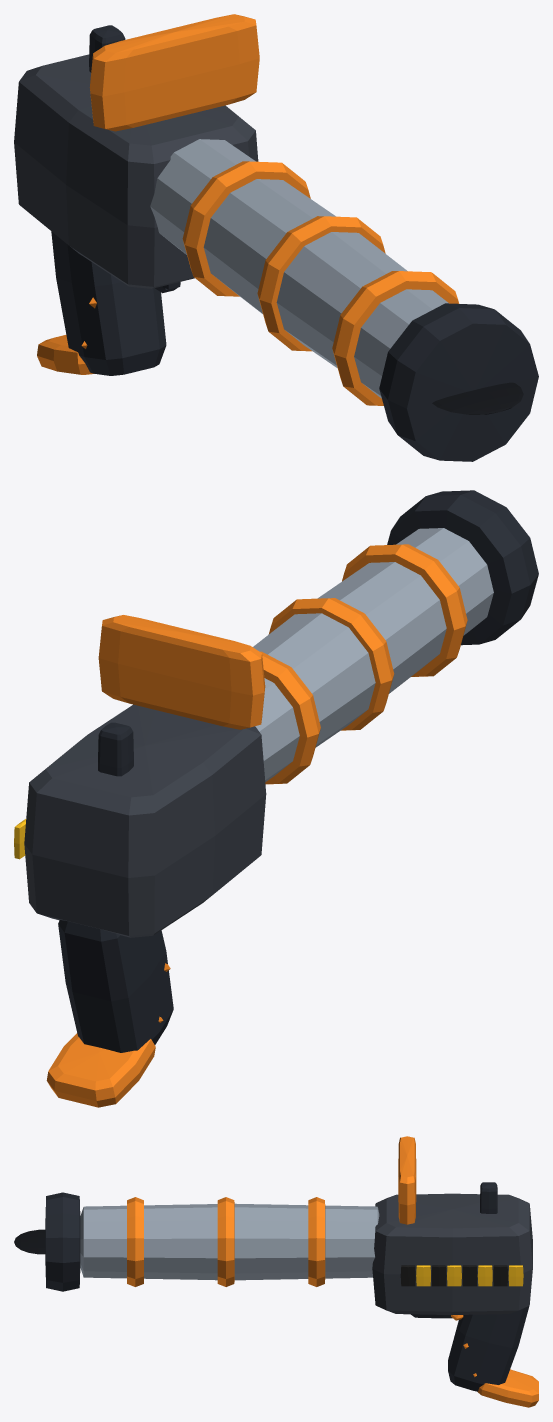
The model's file is g-heavy-3.glb.
3 views of the same model, one above another, from view 1: azimuth 30°, elevation 25°; view 2: azimuth 150°, elevation 25°; view 3: azimuth 270°, elevation 25° (orthographic). The views are drawn at different scales.
Parts seen in each view (by area): view 1: gun; view 2: gun; view 3: gun.
Boxes of the visible parts, bbox=[...] form: gun: bbox=[14, 14, 538, 461]; gun: bbox=[14, 490, 538, 1107]; gun: bbox=[14, 1136, 538, 1407].
Bounding box in the file's own units: 0.26 × 0.5936 × 1.16.
